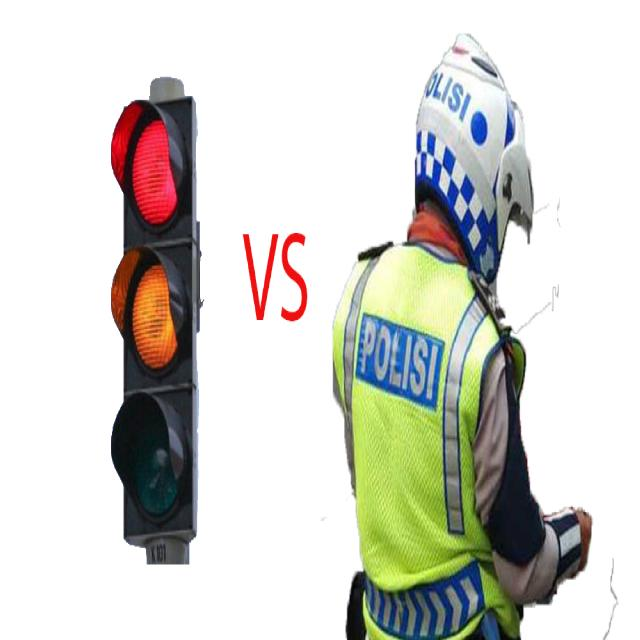Kuning: (132, 261, 179, 370)
Merah: (134, 115, 180, 226)
